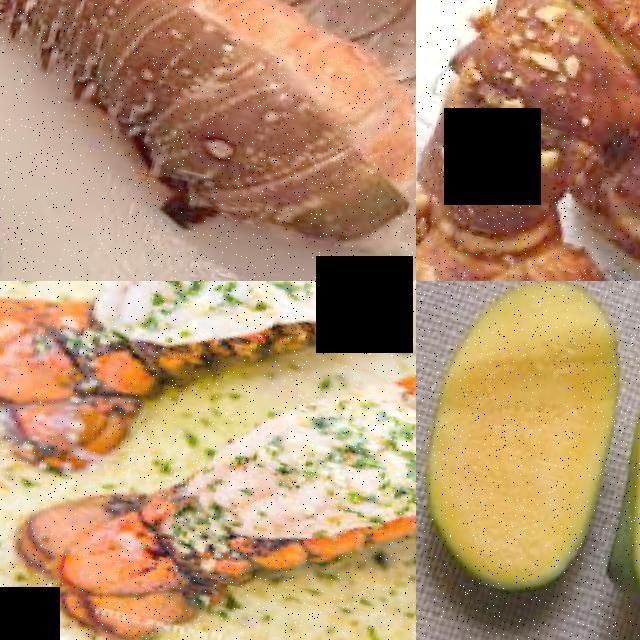lobster tails: (0, 0, 416, 272), (54, 350, 416, 640), (0, 281, 379, 451), (416, 0, 640, 281)
